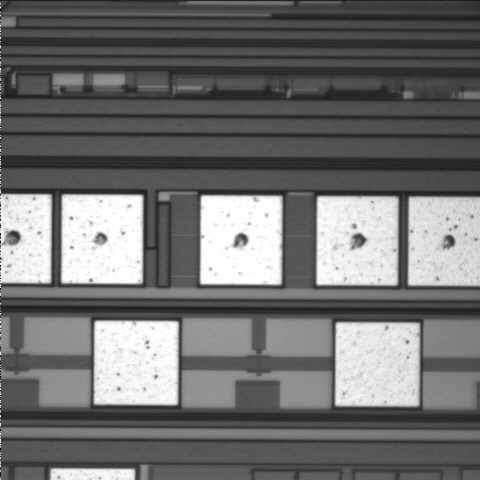pad: (61, 195, 143, 284), (200, 196, 282, 285), (317, 196, 398, 285), (335, 322, 420, 406), (94, 321, 178, 405)
